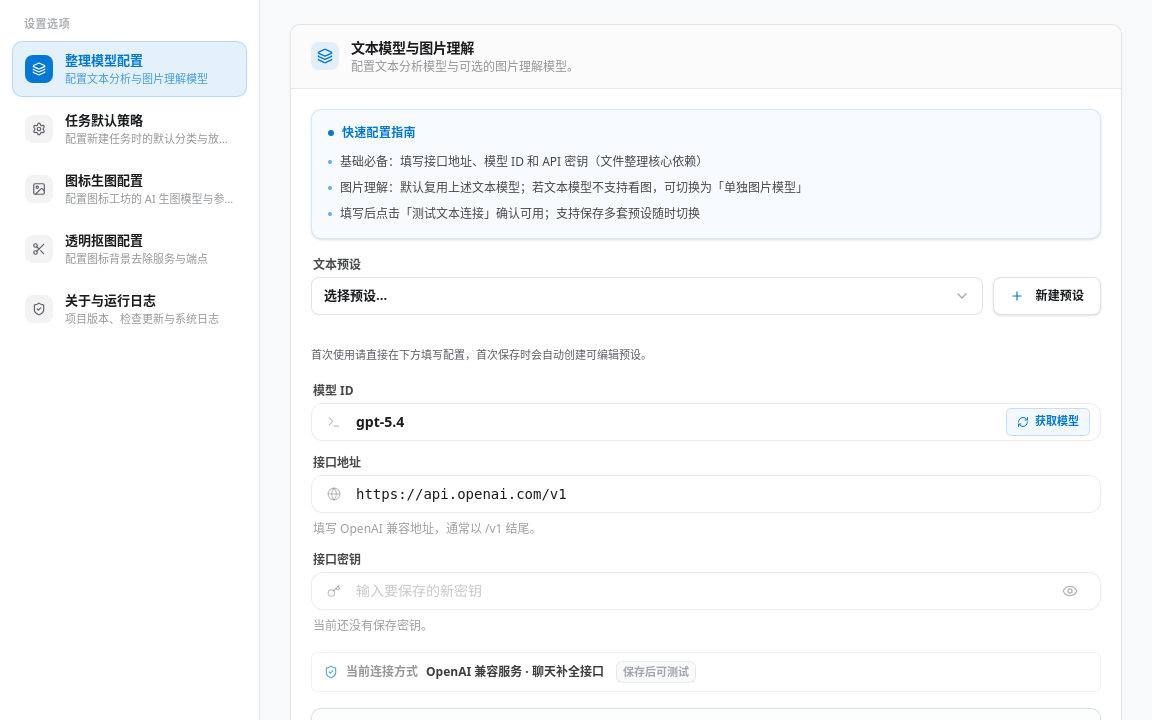
Test: SettingsPage preset flow › opens the create preset dialog from the add button
Click the button "新建预设": (1047, 296) x1=992 y1=276 x2=1101 y2=314
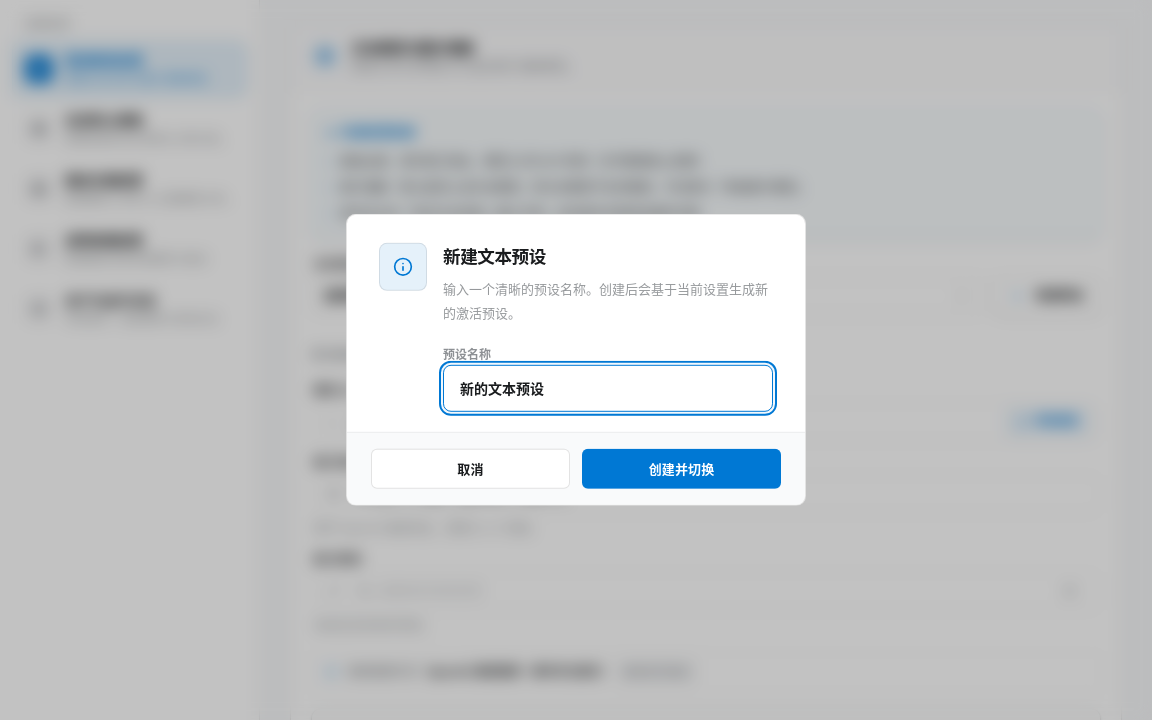
Check: the heading "新建文本预设" is shown, box x1=443 y1=244 x2=546 y2=268
Check: the field showing "新的文本预设" is shown, box x1=443 y1=365 x2=773 y2=412
